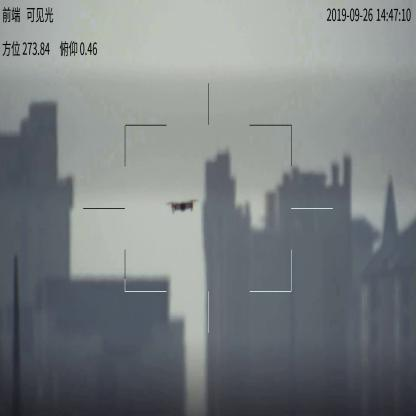uav: (167, 197, 199, 214)
